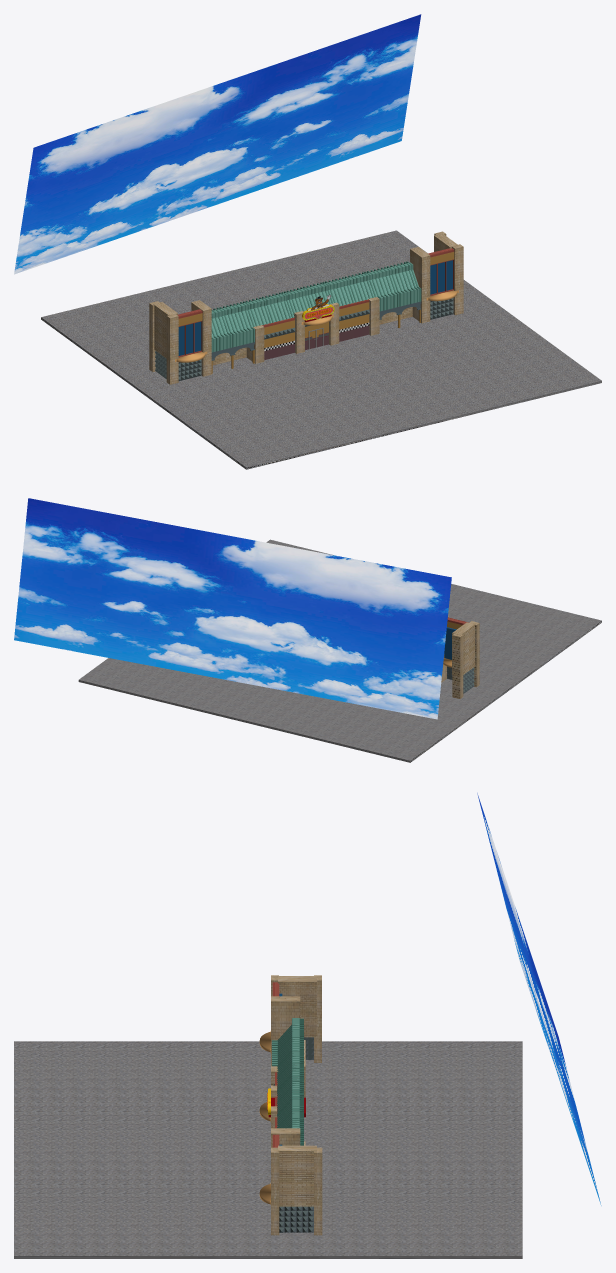
3 views of the same model, one above another, from view 1: azimuth 30°, elevation 25°; view 2: azimuth 150°, elevation 25°; view 3: azimuth 270°, elevation 25° (orthographic). The views are drawn at different scales.
Visible parts, largest first — view 1: Cube.002_8, sky_9, Cube.365_10; view 2: sky_9, Cube.002_8, Cube.365_10; view 3: Cube.002_8, Cube.365_10, sky_9.
Part boxes in pixels (x1,y1,x2,y2): Cube.002_8: [41, 230, 601, 469]; sky_9: [14, 14, 421, 274]; Cube.365_10: [149, 231, 463, 384]; sky_9: [14, 498, 451, 719]; Cube.002_8: [78, 539, 601, 762]; Cube.365_10: [441, 616, 479, 698]; Cube.002_8: [14, 1041, 522, 1258]; Cube.365_10: [259, 975, 322, 1235]; sky_9: [477, 793, 601, 1205].
Size of the model in its own units: 32.36 by 16 by 31.45.
35 materials, 19 textured.
